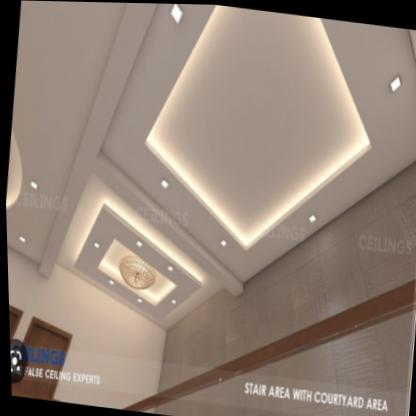Gypsum Board: (0, 0, 416, 362)
